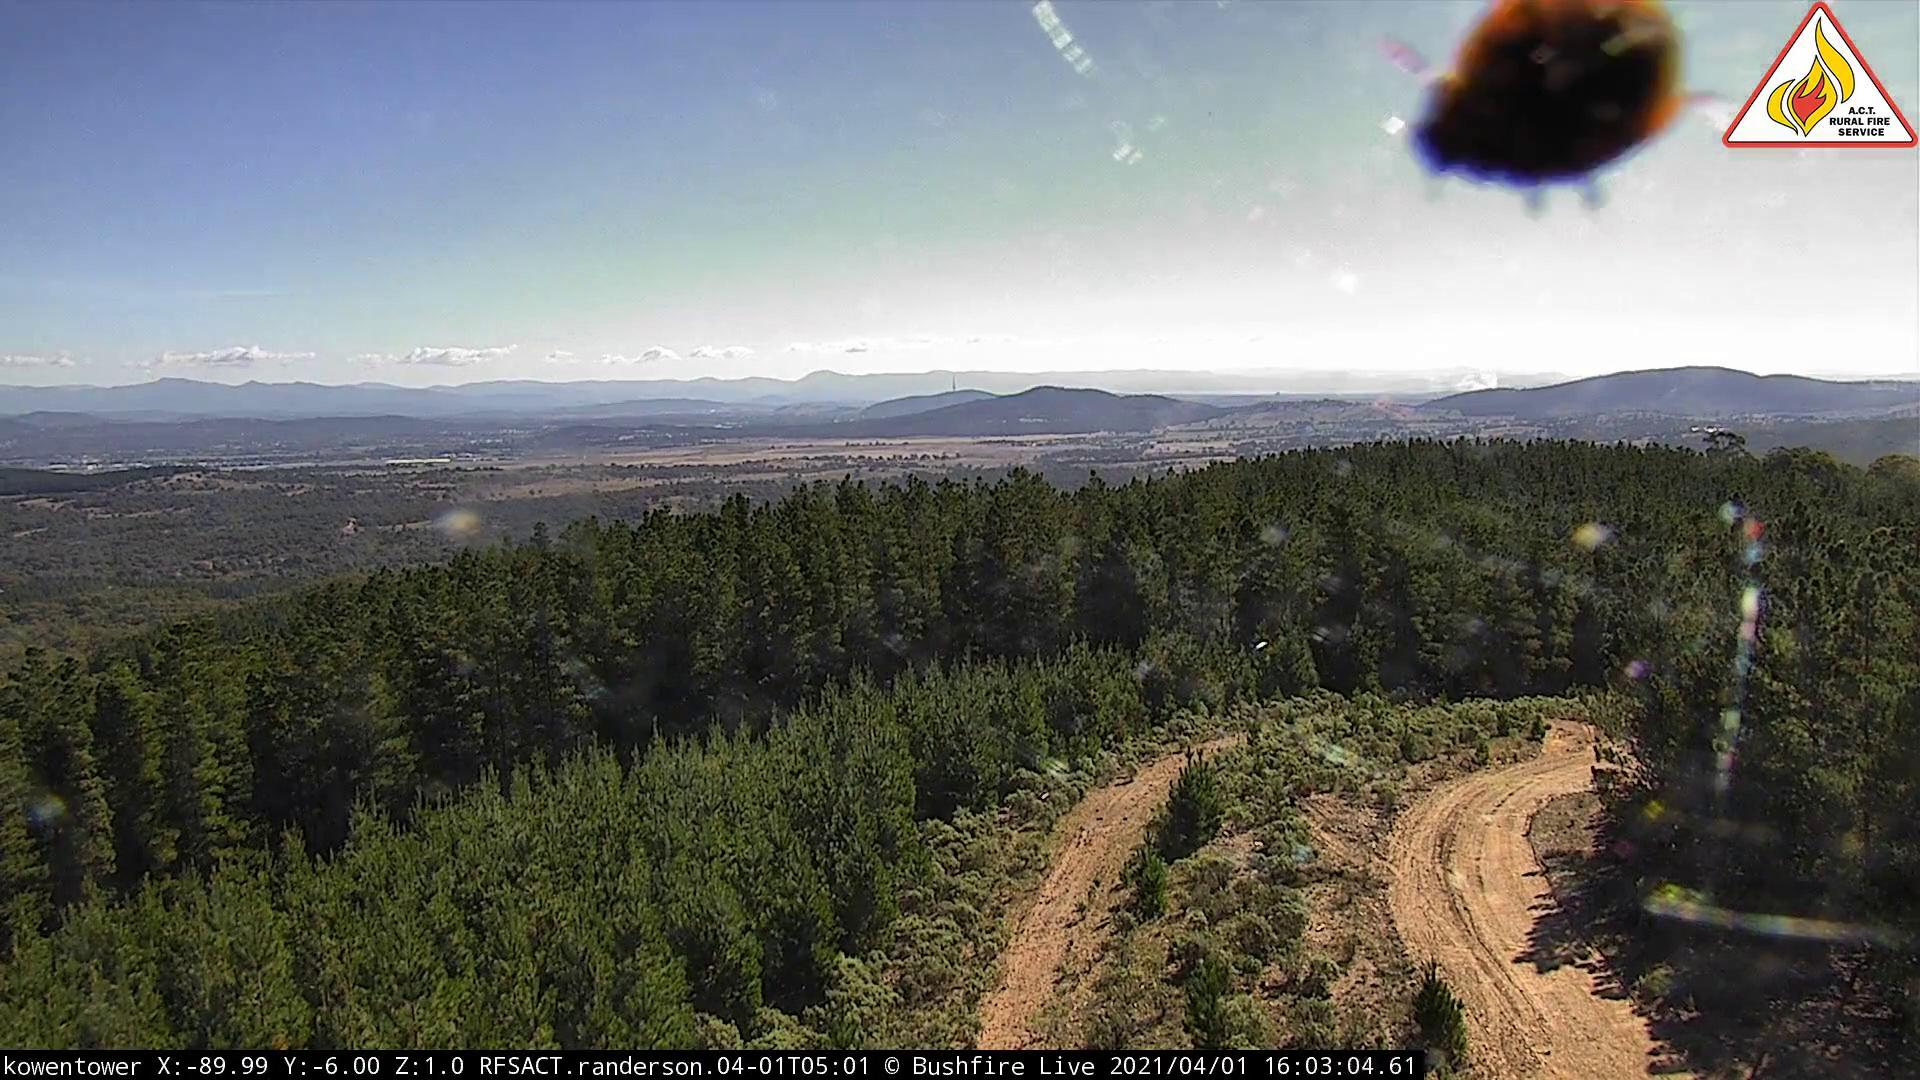Smoke: (1408, 357, 1509, 404)
